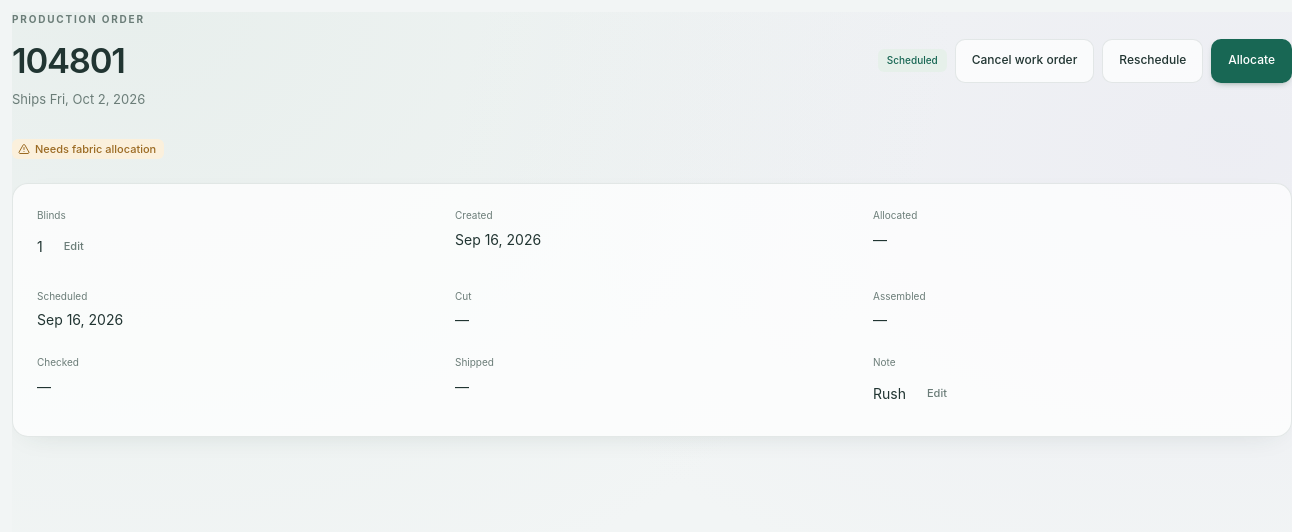
Test: edits an unallocated order's blind count in place, keeping the revision it started from
Click the button with aria-label "Edit blinds" at (74, 247), box [51,229,97,265]
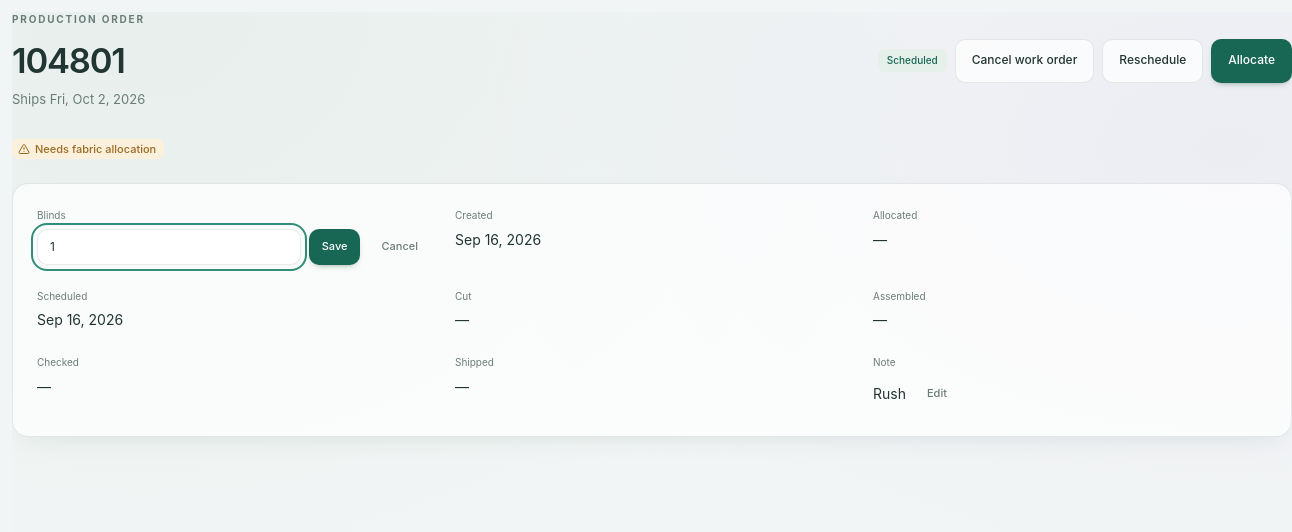
Replace the text in the field labelled "Blinds" with "0" at (169, 247), box [37,229,301,265]
Click the button "Save" at (335, 247), box [309,229,360,265]
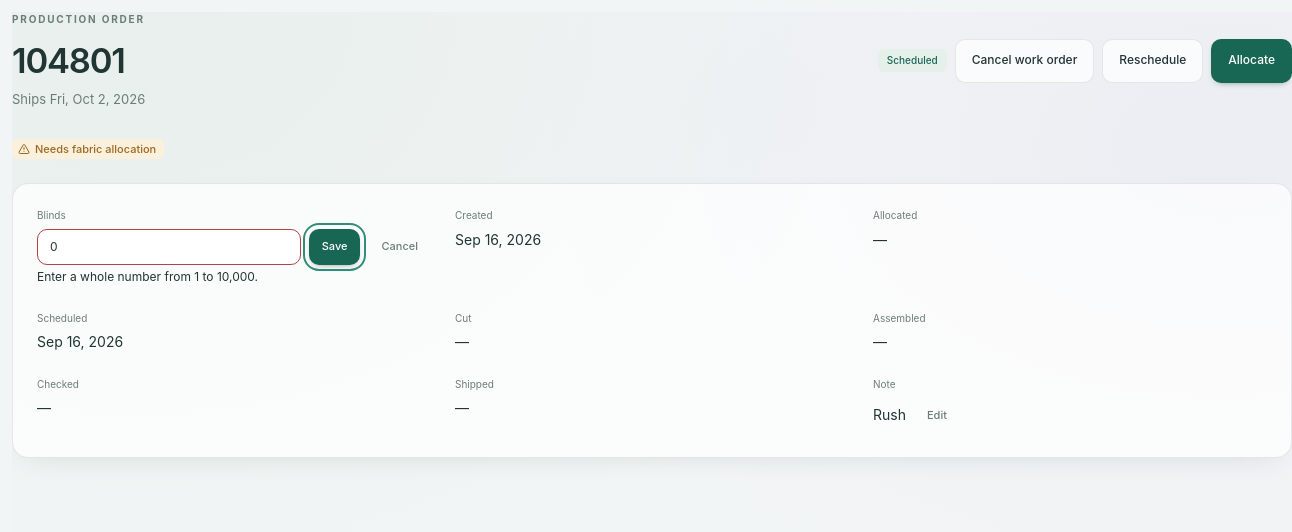
Escape leaves the edit without saving.
Press Escape
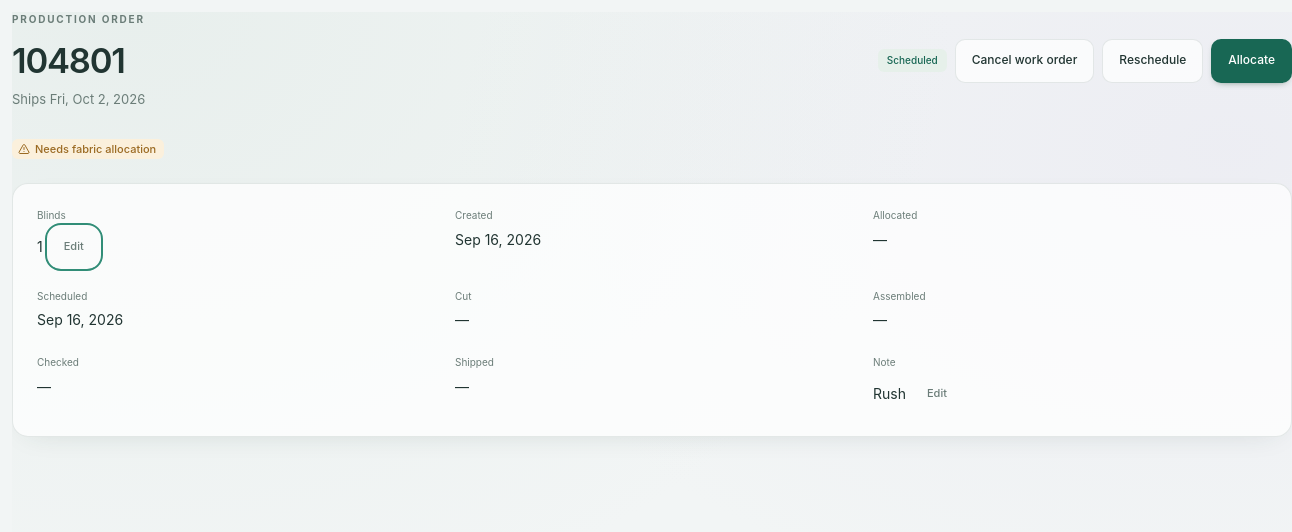
Click the button with aria-label "Edit blinds" at (74, 247), box [51,229,97,265]
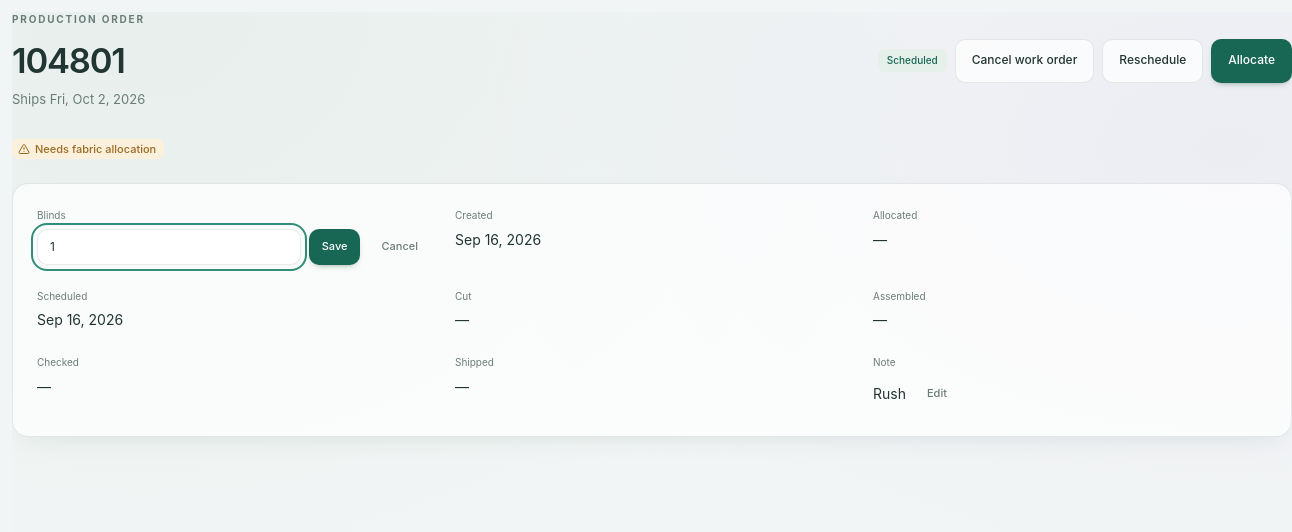
Replace the text in the field labelled "Blinds" with "1x2" at (169, 247), box [37,229,301,265]
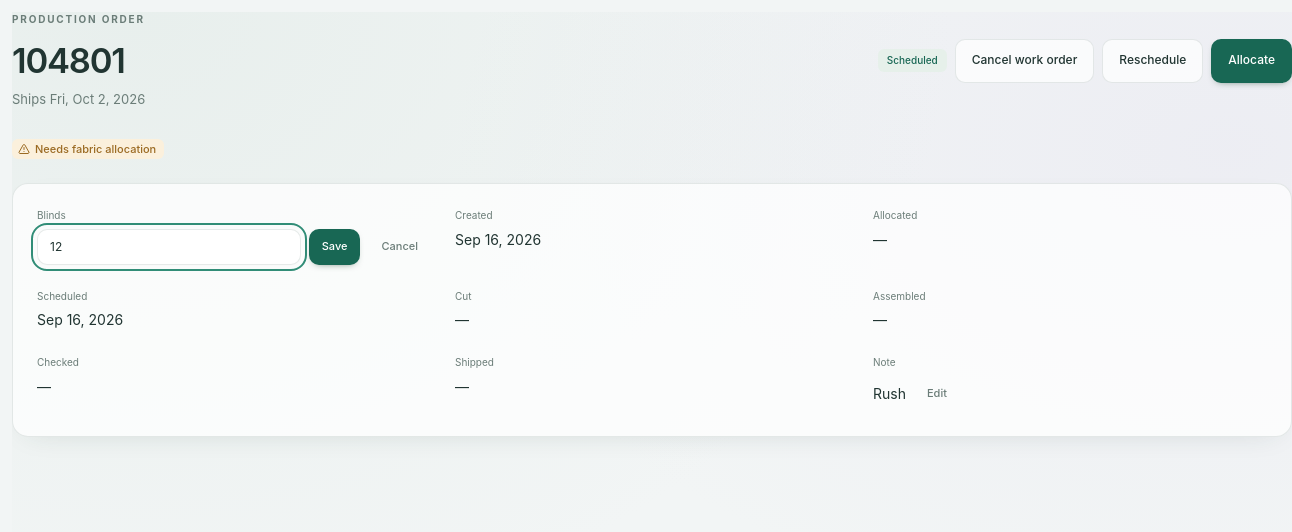
Click the button "Save" at (335, 247), box [309,229,360,265]
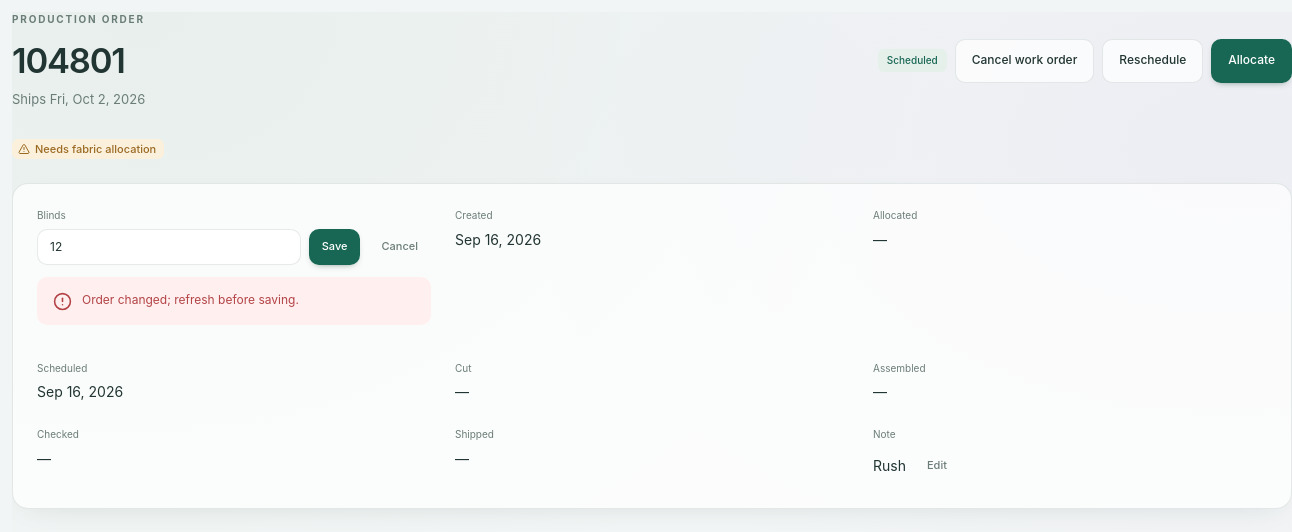
Expected: the field labelled "Blinds" holds "12", [37,229,301,265]
Expected: the message reads "Order changed; refresh before saving.", [82,292,299,307]
